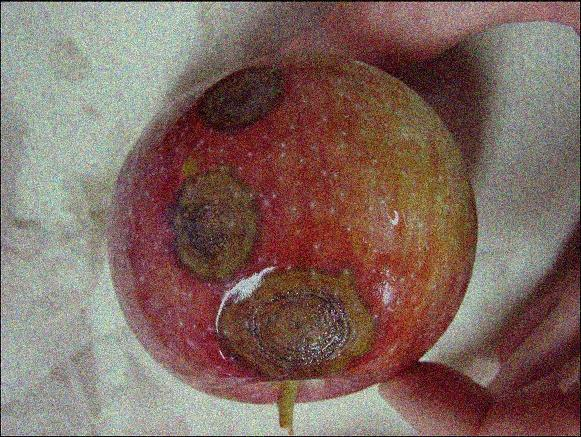rotten apple: (109, 55, 481, 408)
